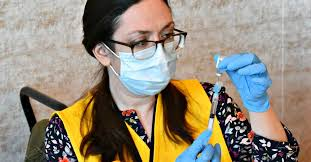with_mask: (104, 18, 186, 94)
